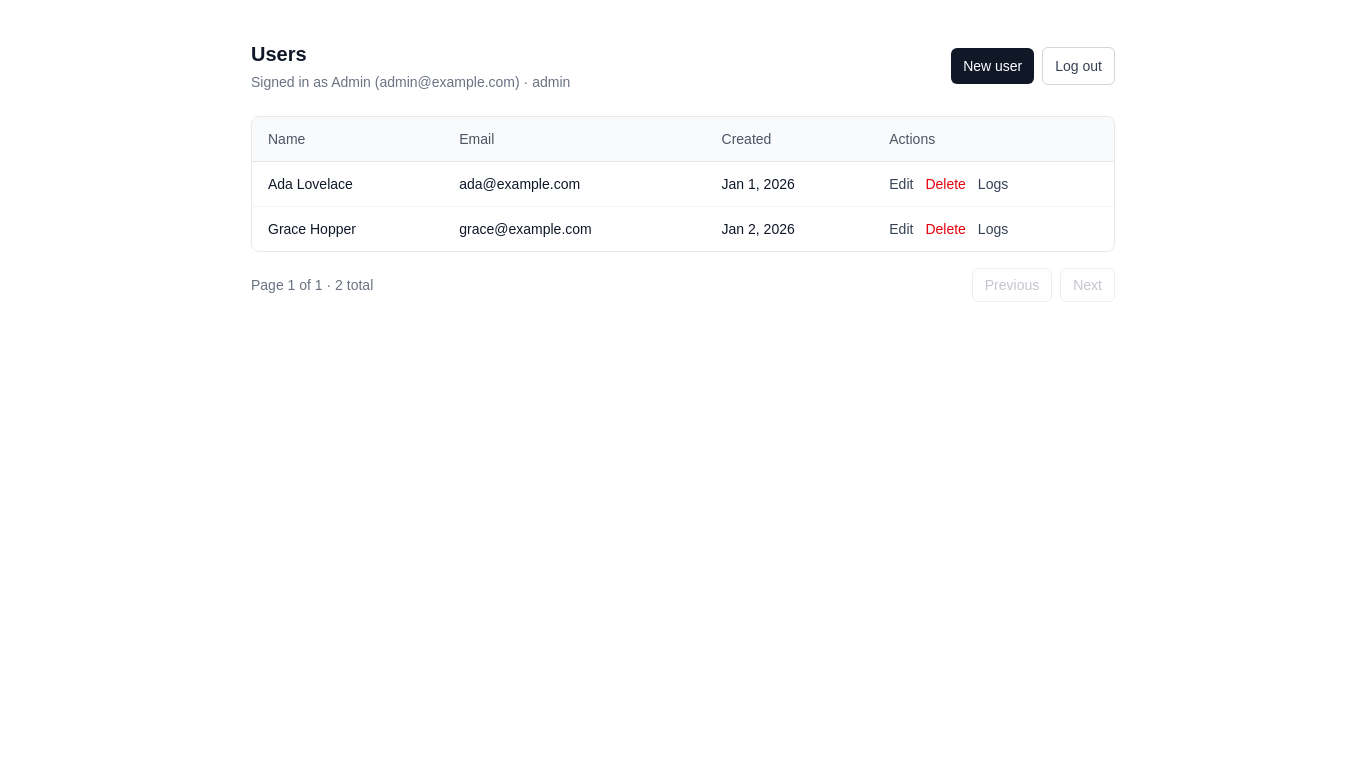
Test: admin can open the edit modal pre-filled for a row
Expected: the text "Ada Lovelace" is shown, [252,162,443,206]
Click the button "Edit" in the row of "Ada Lovelace" at (901,184), box [889,174,913,194]
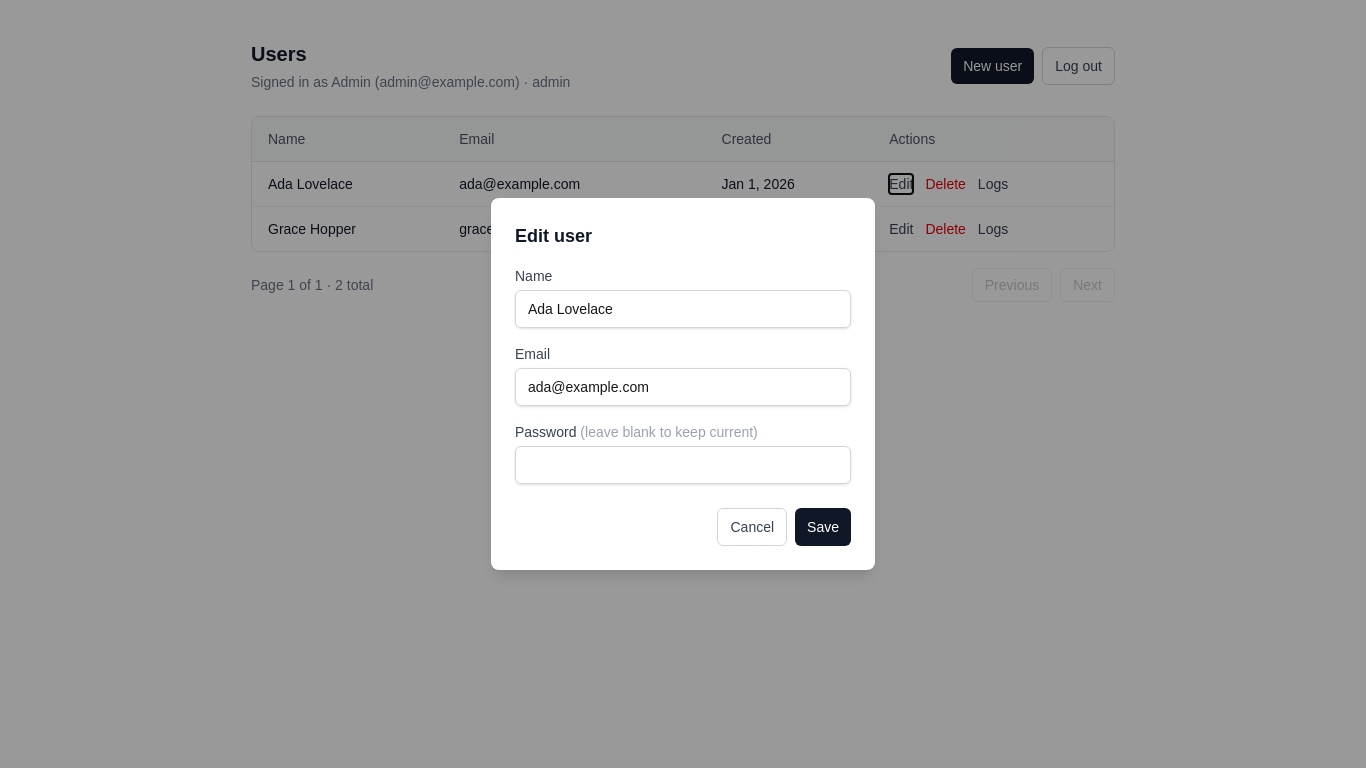
Expected: the heading "Edit user" is shown, [515,226,592,246]
Expected: the field labelled "Name" holds "Ada Lovelace", [515,290,851,328]
